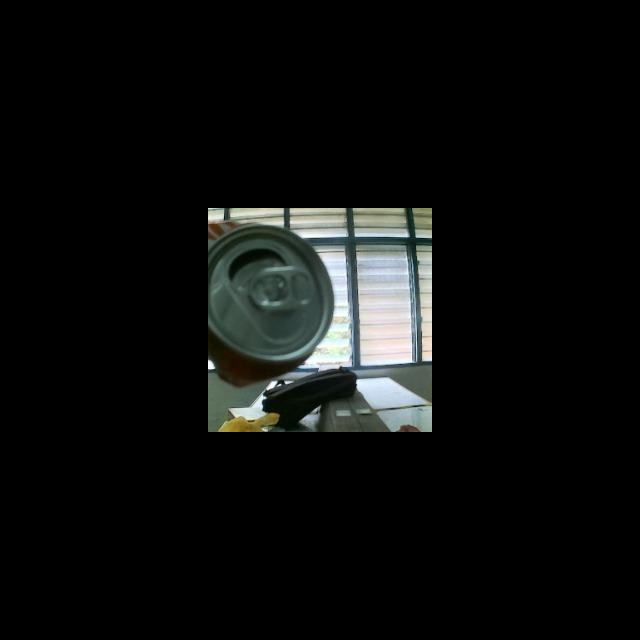metal: (208, 218, 337, 387)
